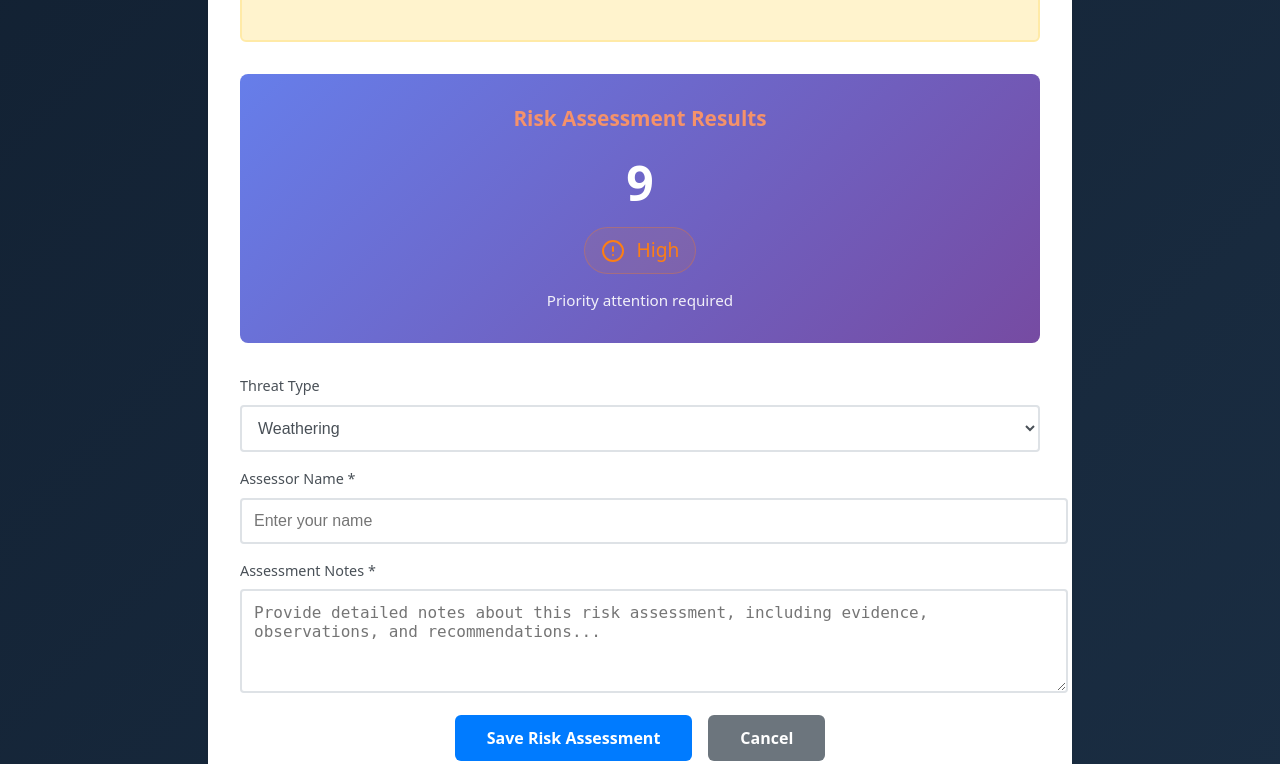
RiskAssessmentForm › clears validation errors when user starts typing
(page scrolled)
Note: Trigger validation errors
Click the button "Save Risk Assessment": (574, 738) [455,715,692,761]
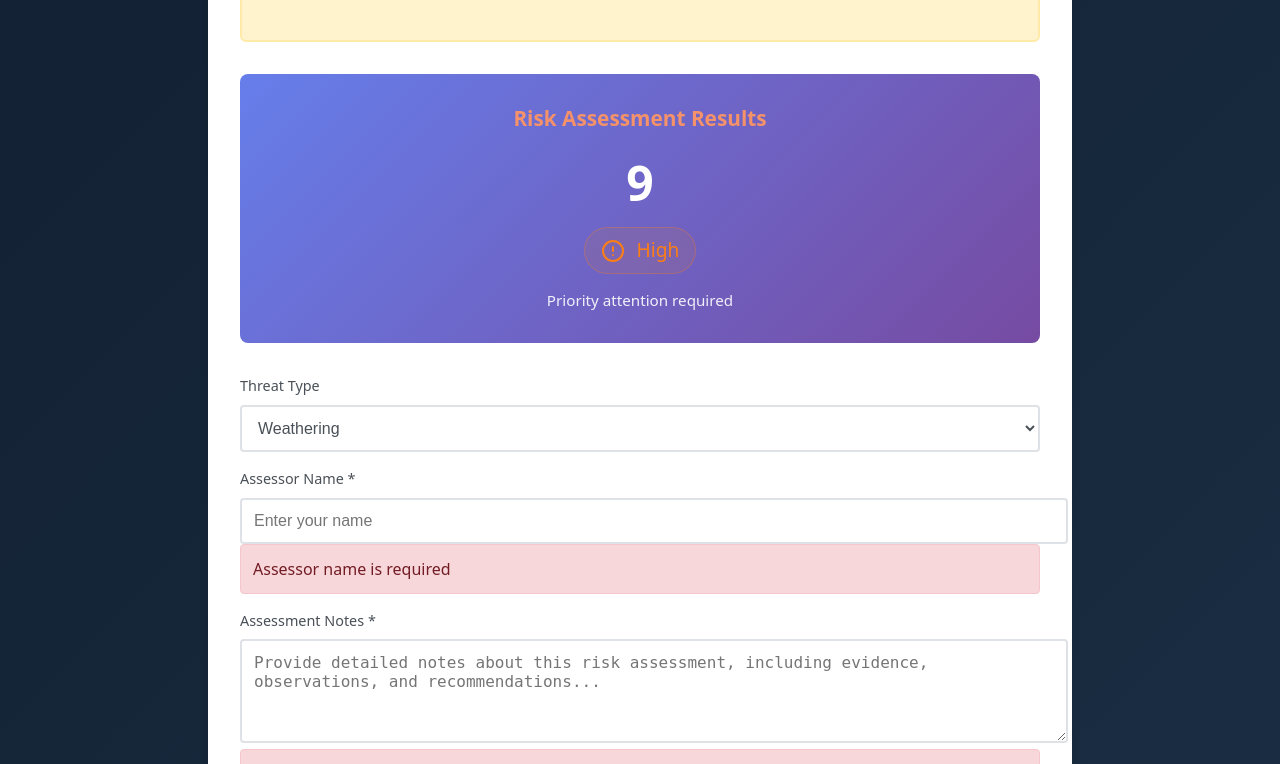
Now the text "Assessor name is required" is shown, box [240,544,1040,594]
Note: Start typing in assessor field
In the field with placeholder "Enter your name": (654, 520) [240,498,1068,544], type "J"
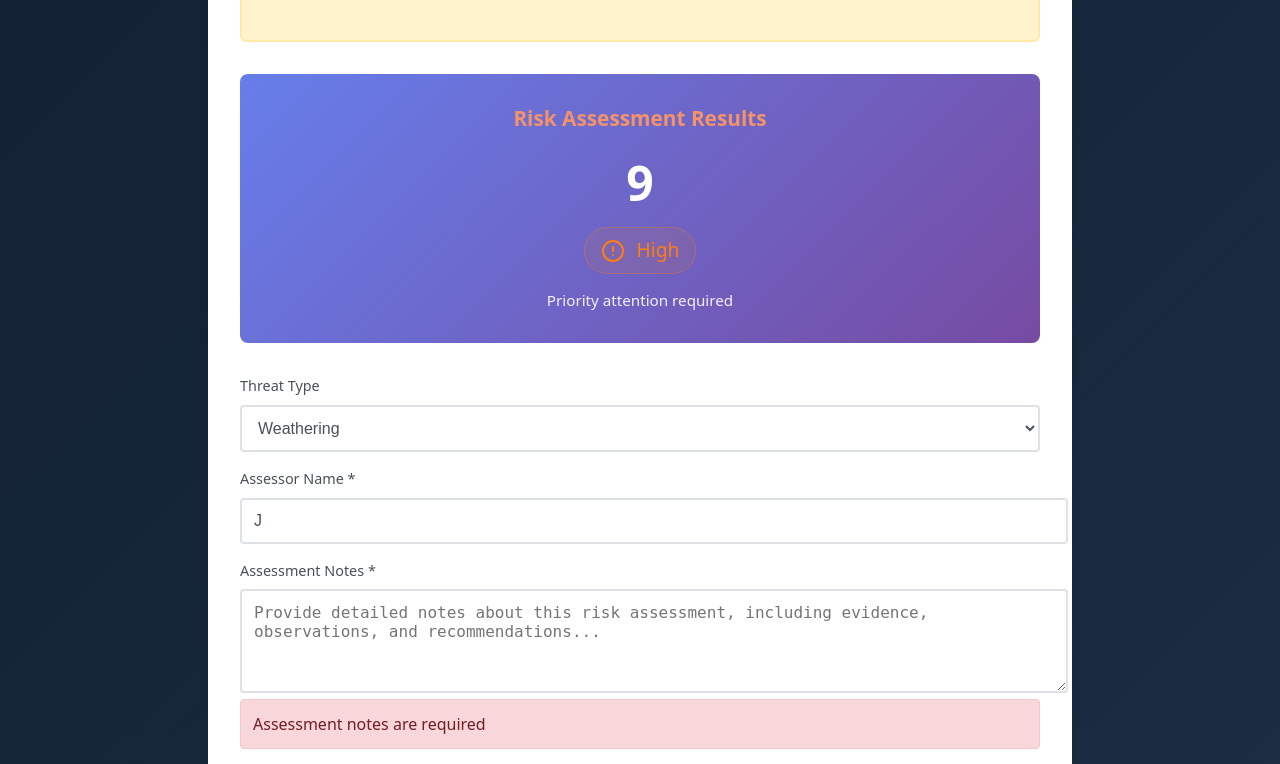
Now the text "Assessor name is required" is gone
